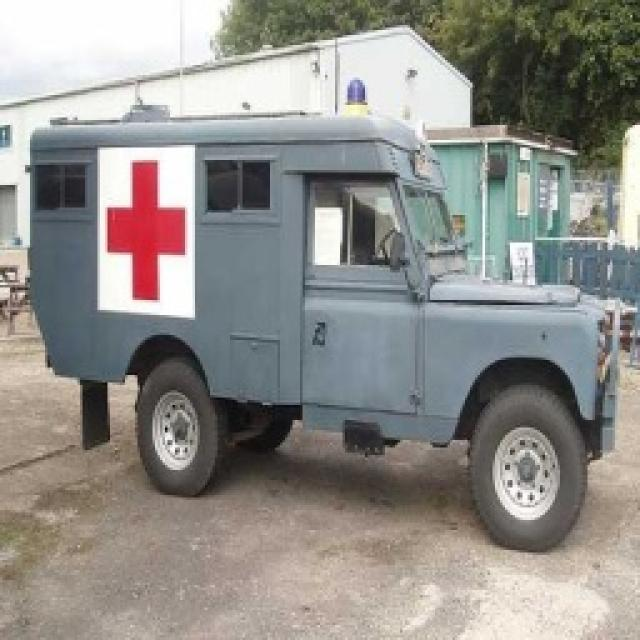emergency-vehicle: (21, 92, 622, 544)
